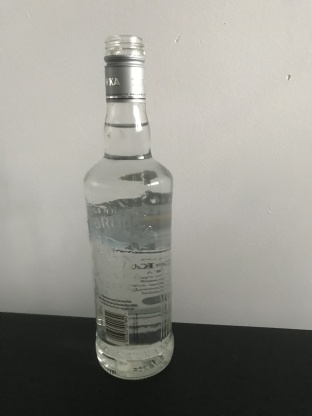nakretka: (102, 37, 147, 103)
